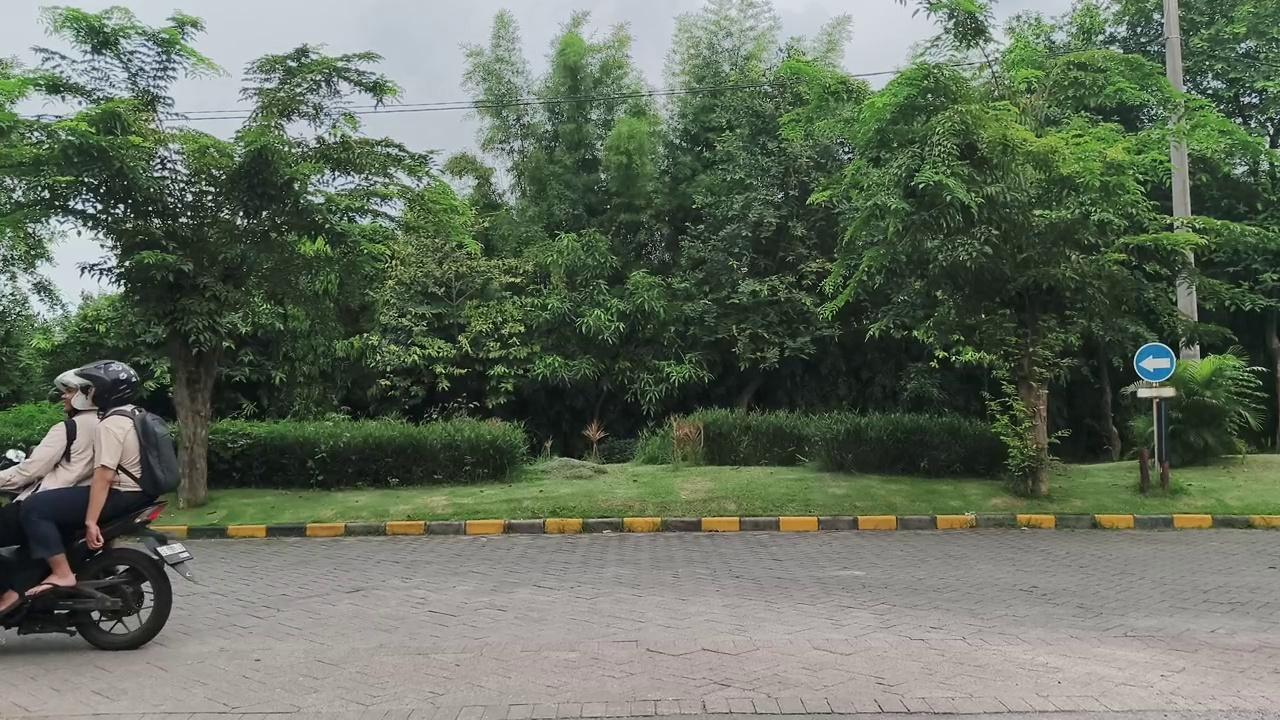Helmet: (21, 360, 153, 595), (0, 370, 98, 546)
Motor: (0, 501, 193, 650)
